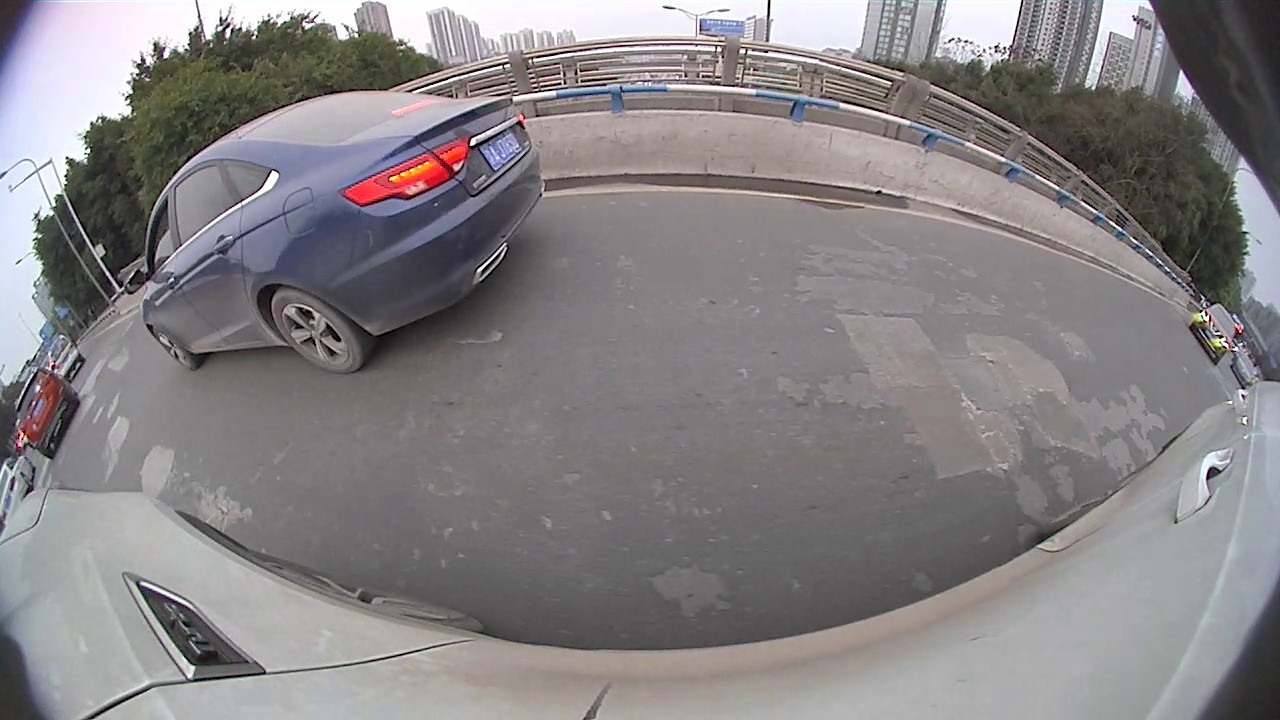car: (123, 87, 547, 375), (9, 366, 82, 459), (1187, 300, 1241, 368), (0, 452, 33, 527), (44, 332, 88, 383), (1229, 350, 1259, 385)
front: (147, 324, 199, 371)
rear: (266, 287, 373, 375)
